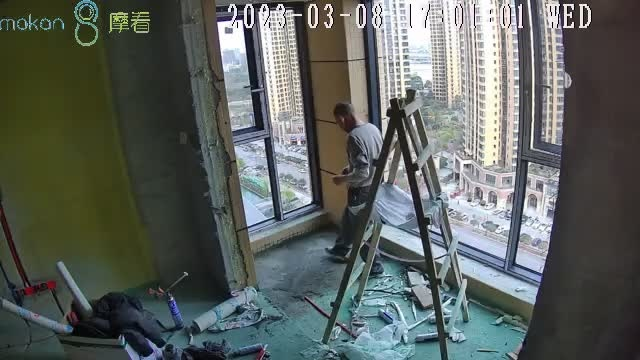people: (332, 103, 385, 277)
window: (214, 3, 567, 289)
